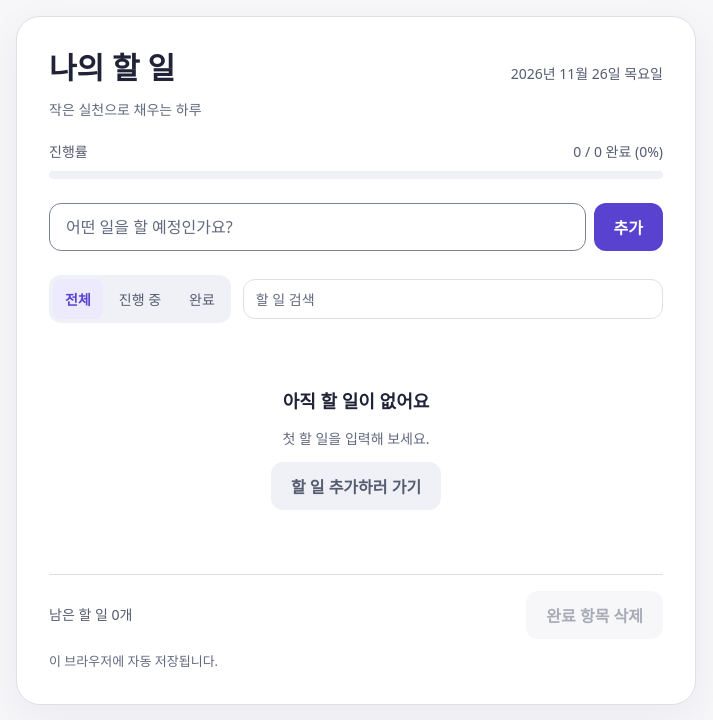
Scenario: App 통합 및 접근성 테스트 › 할 일 추가 시 앞뒤 공백을 제거하고 최신 항목을 상단에 표시한다
The width and height of the screenshot is (713, 720).
Type "  공백 제거 테스트  " into the field with placeholder "어떤 일을 할 예정인가요?" at (317, 227), box x1=49 y1=203 x2=586 y2=251
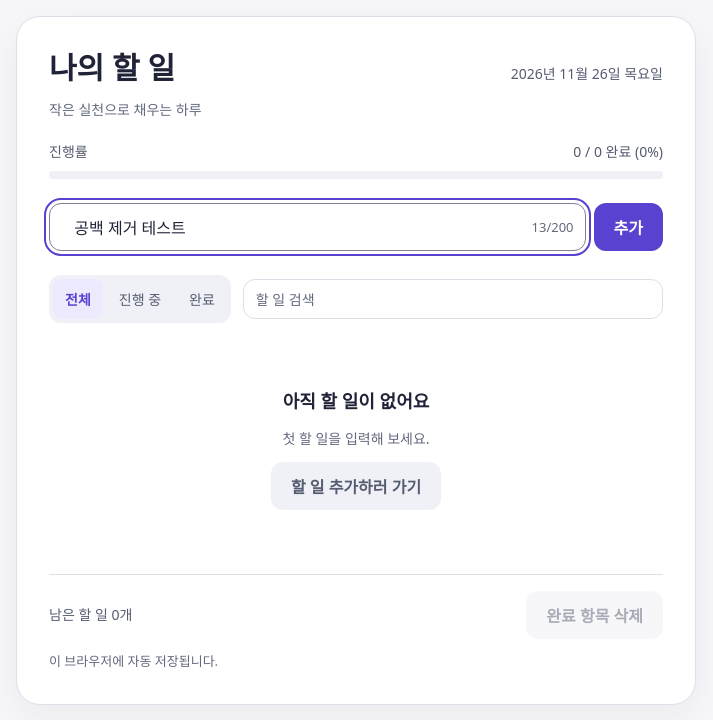
Click the button with aria-label "할 일 추가" at (628, 227), box x1=594 y1=203 x2=663 y2=251
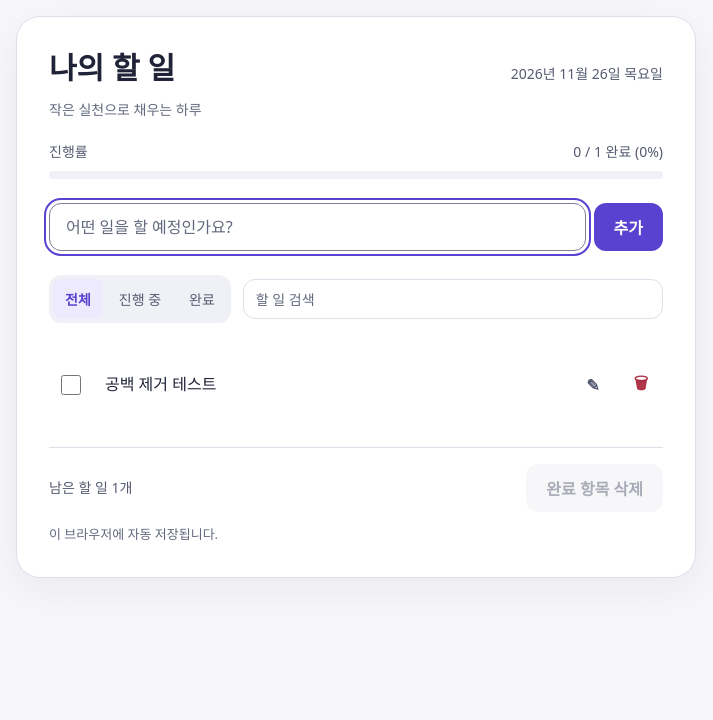
Result: the text "공백 제거 테스트" is shown at x1=105 y1=374 x2=216 y2=396
Result: the field with placeholder "어떤 일을 할 예정인가요?" is empty at x1=49 y1=203 x2=586 y2=251
